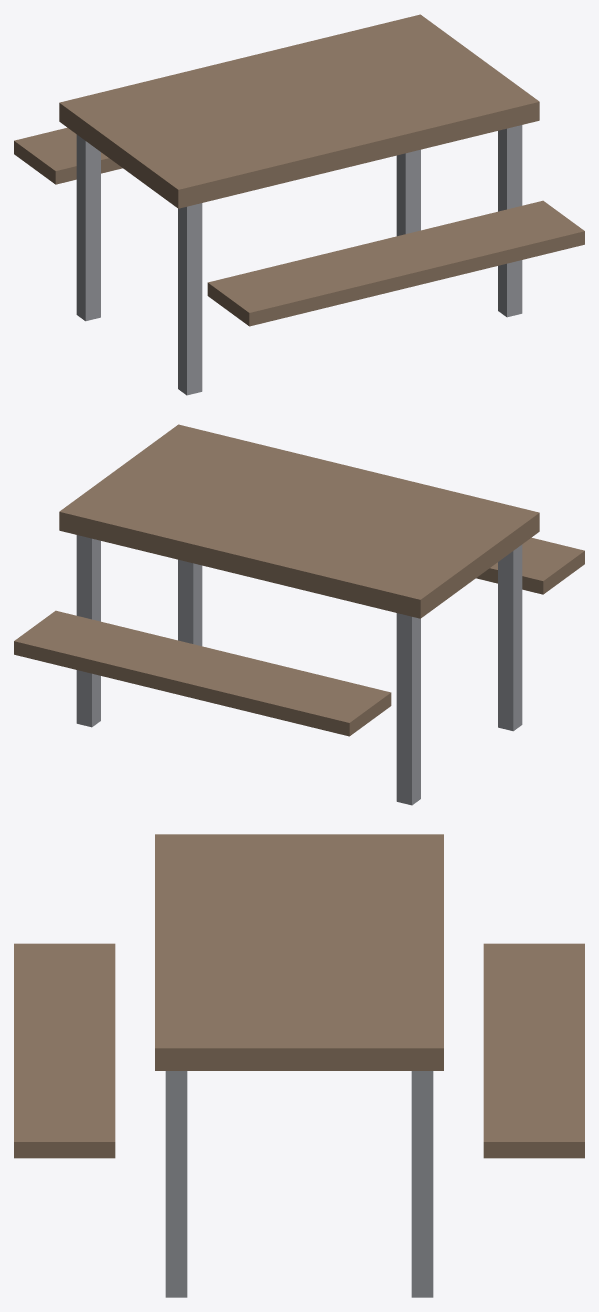
The model's file is build_garden_table.glb.
The picture shows the model from 3 angles, top to bottom: view 1: azimuth 30°, elevation 25°; view 2: azimuth 150°, elevation 25°; view 3: azimuth 270°, elevation 25°; orthographic projection. The views are drawn at different scales.
Visible parts, largest first — view 1: Baked; view 2: Baked; view 3: Baked.
Boxes of the visible parts, left/top/right/bottom form: Baked: left=14, top=14, right=584, bottom=395; Baked: left=14, top=424, right=584, bottom=805; Baked: left=14, top=834, right=584, bottom=1297.
Bounding box in the file's own units: 1.4 × 0.785 × 1.58.
